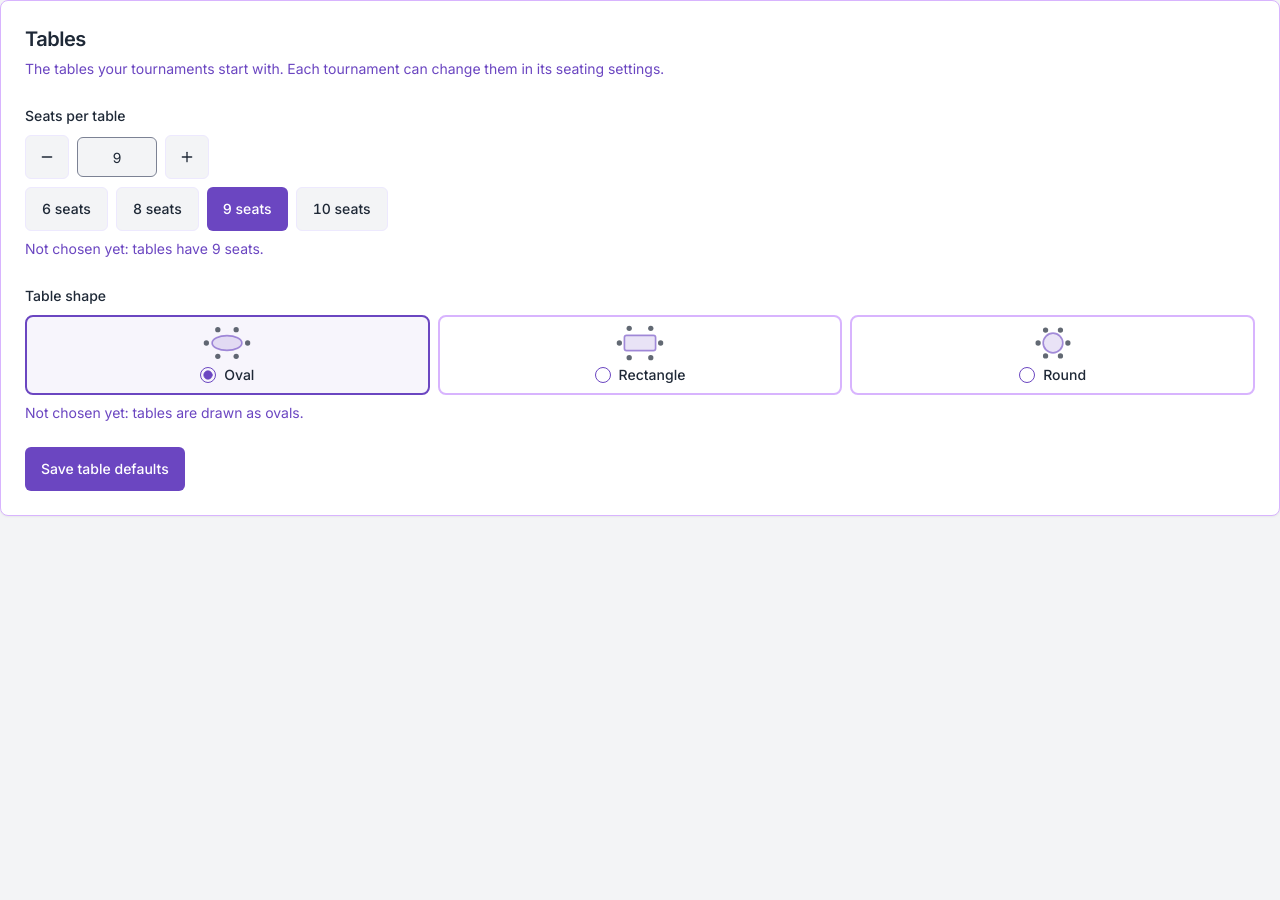
Test case: ClubTableDefaultsFields › saves the club's table defaults, only what changed (Central Stars: rectangles), at 390 px
Check: the field labelled "Seats per table" holds "9", box [77,137,157,177]
Check: the element with test id "club-table-defaults" shows "Not chosen yet: tables have 9 seats.", box [25,240,264,257]
Click the radio button named "Rectangle" next to "Rectangle": [603, 375] box [595,367,611,383]
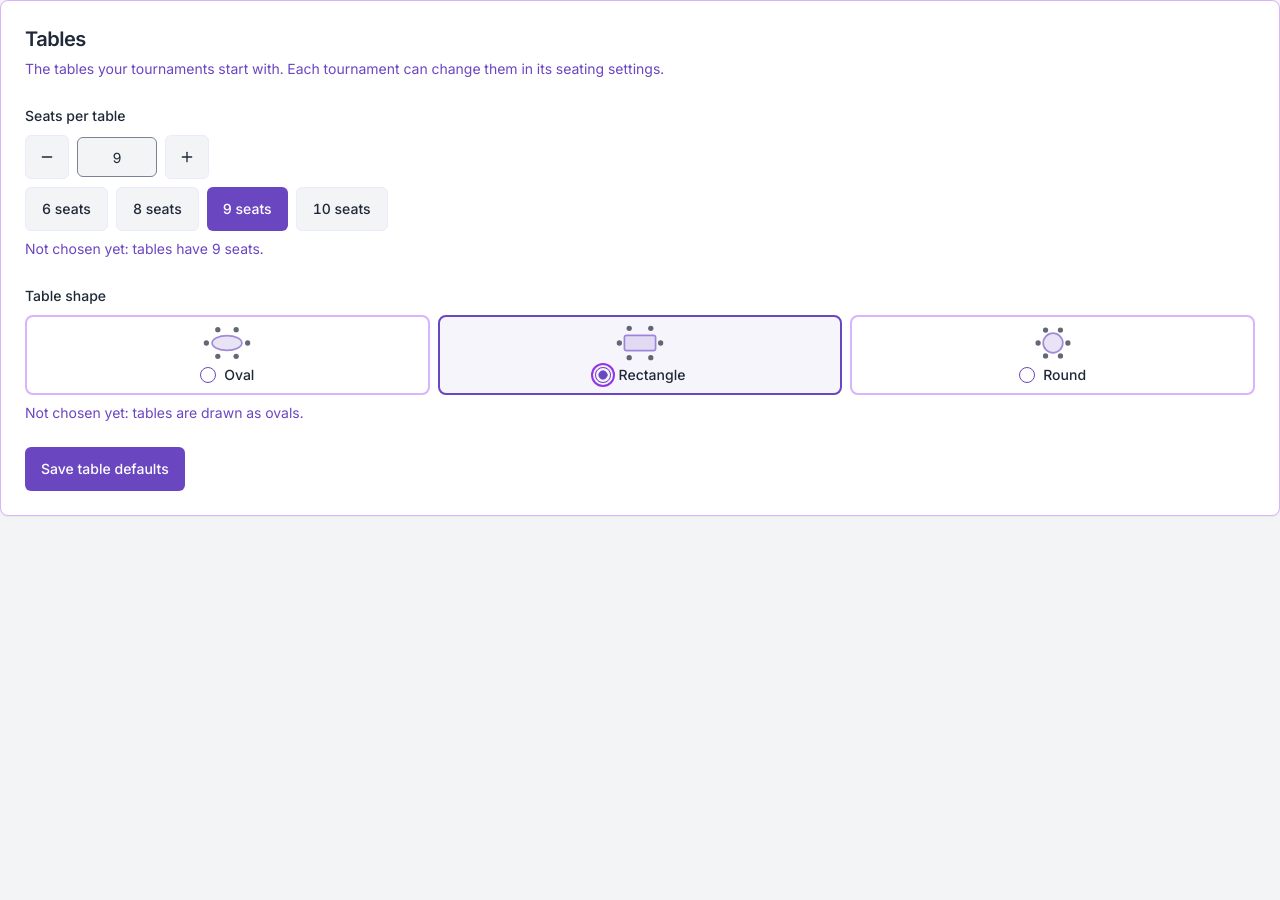
Click the button "Save table defaults": [105, 469] box [25,447,185,491]
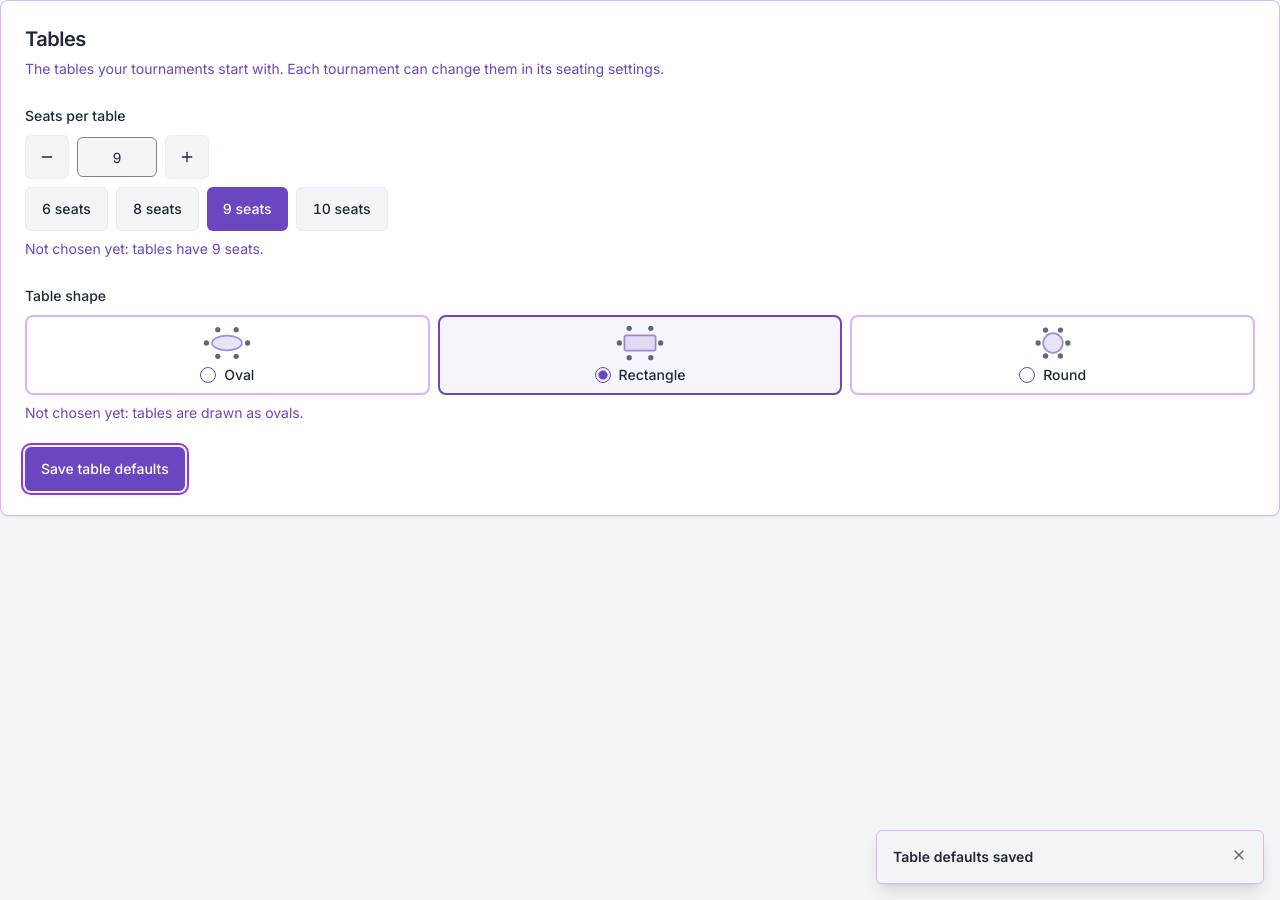
Check: the text "Table defaults saved" is shown, box [893,848,1033,865]
